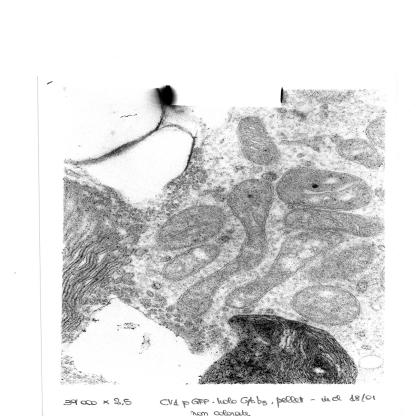mitochondria: (177, 179, 277, 317), (225, 232, 345, 310), (275, 166, 373, 210), (155, 204, 228, 252), (291, 284, 362, 326), (309, 241, 375, 282), (284, 209, 382, 236), (162, 242, 220, 282), (236, 116, 282, 165), (335, 137, 385, 169)
